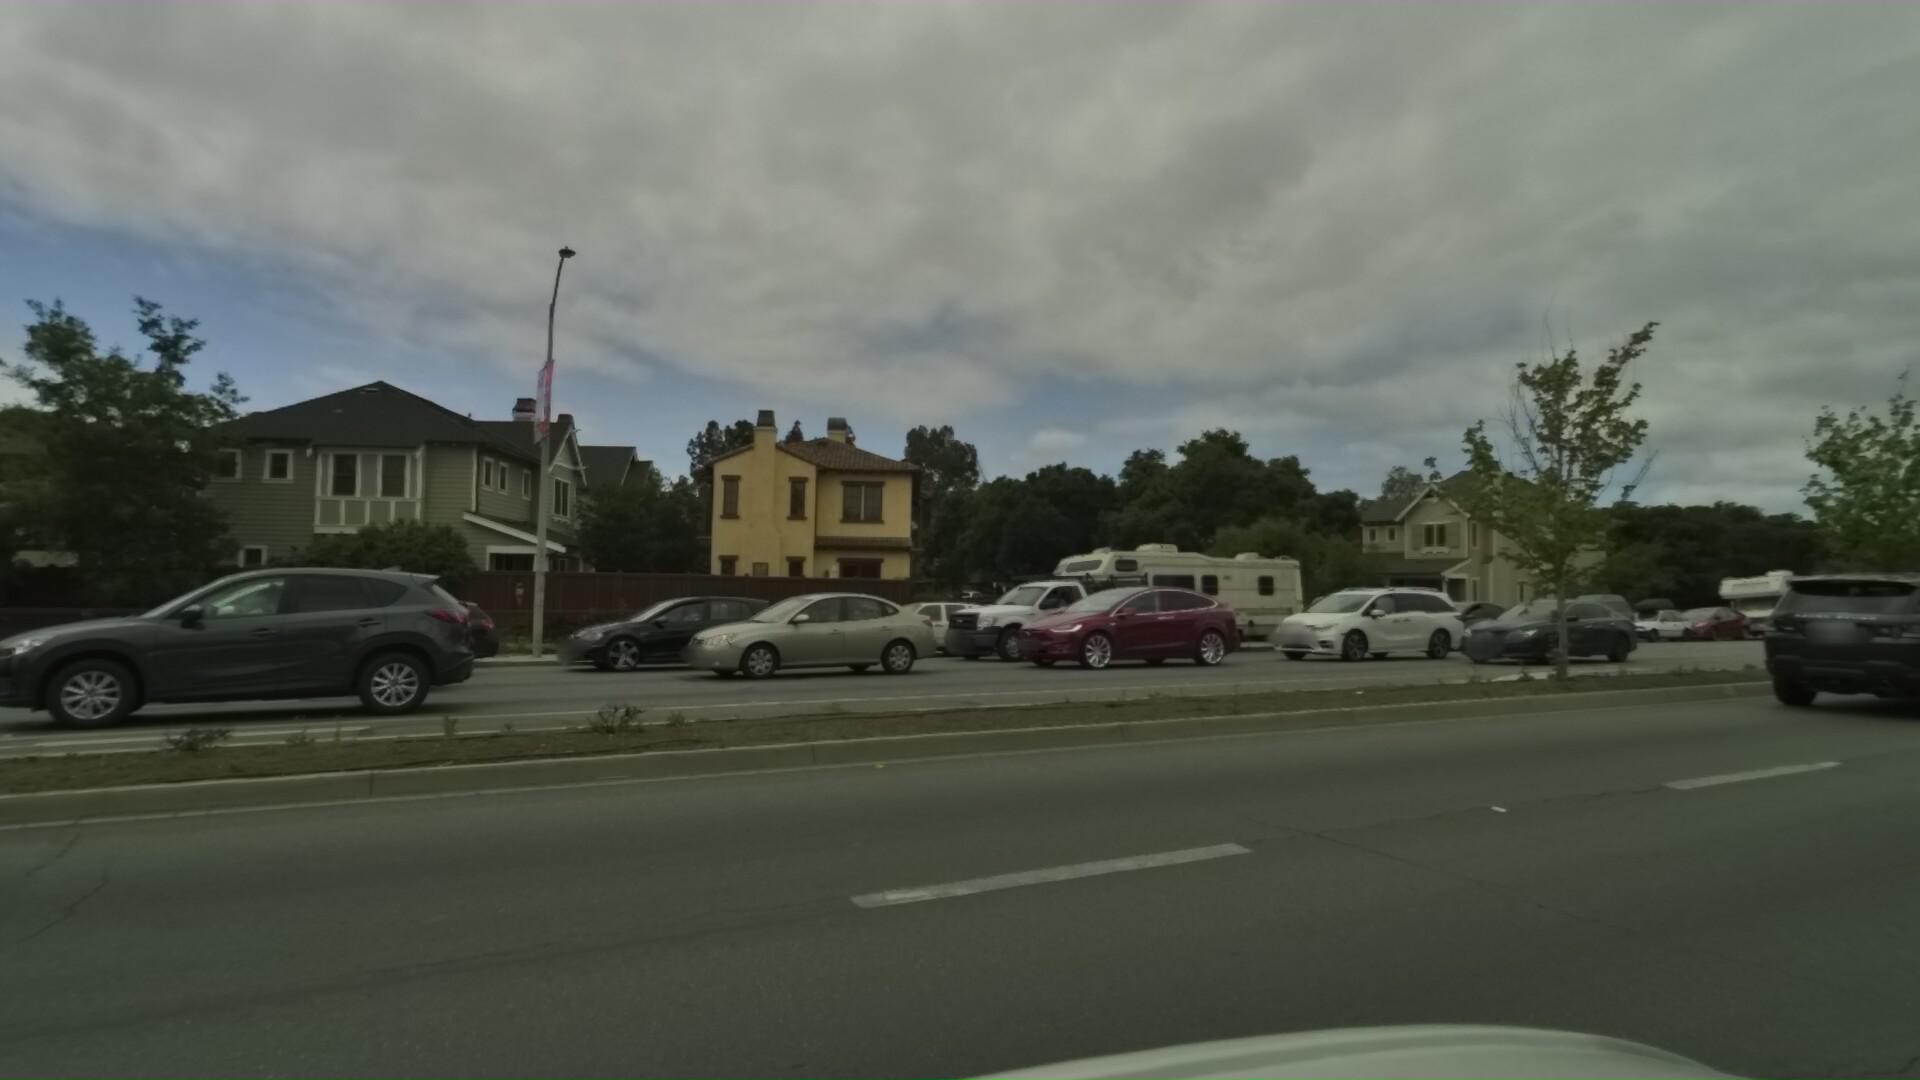car: (0, 555, 448, 752), (0, 546, 438, 717), (96, 554, 446, 694), (1722, 558, 1920, 738), (641, 578, 935, 684), (906, 553, 1162, 665), (175, 585, 485, 678), (975, 574, 1242, 673), (524, 589, 777, 673), (1236, 571, 1466, 659), (1418, 592, 1638, 669), (782, 595, 984, 667), (1367, 596, 1522, 650), (1505, 582, 1633, 640), (1588, 589, 1691, 640), (1644, 593, 1749, 633)
other_vehicle: (1011, 520, 1305, 654), (1698, 559, 1846, 633), (1887, 560, 1920, 629)
